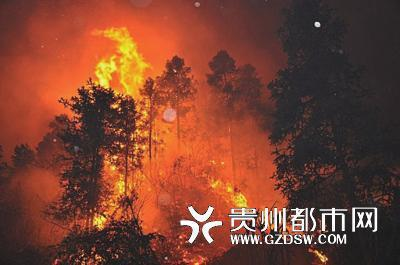fire: (76, 21, 160, 99), (90, 111, 144, 231), (200, 154, 256, 205)
